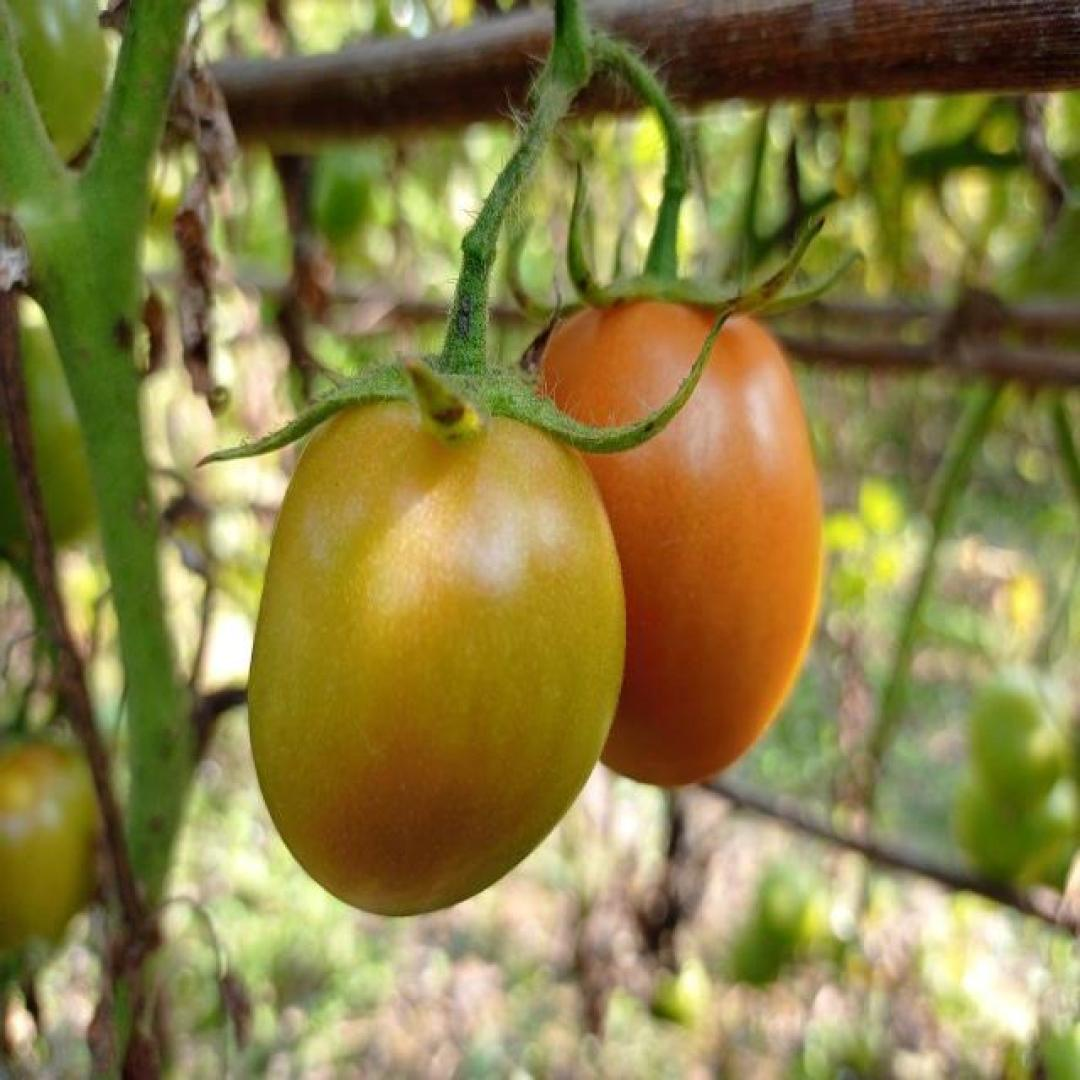setengah_matang: (243, 364, 628, 920), (513, 283, 825, 795)
